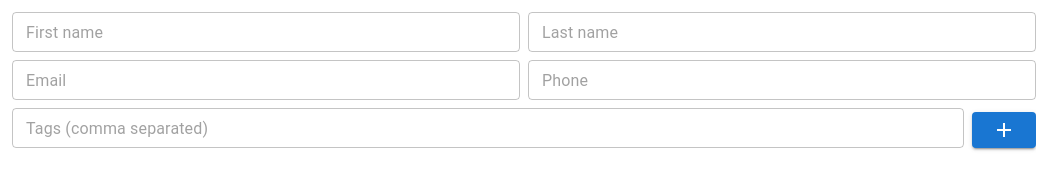
Scenario: ContactForm › should show a validation error when neither email nor phone is provided
Type "Ada" into the field with placeholder "First name".
click(266, 32); type("Ada")  # box [12,12,520,52]
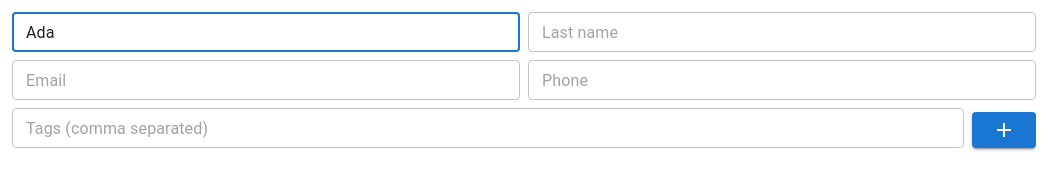
Type "Lovelace" into the field with placeholder "Last name".
click(782, 32); type("Lovelace")  # box [528,12,1036,52]
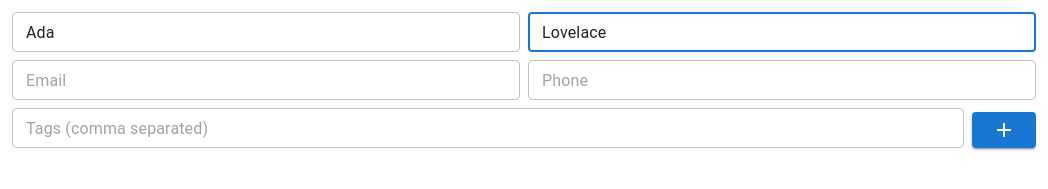
Click the button named "Add contact".
click(1004, 130)  # box [972,112,1036,148]
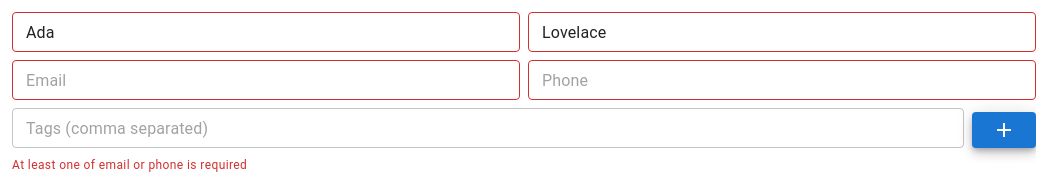
Expected: the text "At least one of email or phone is required" is shown, [12,158,247,172]
